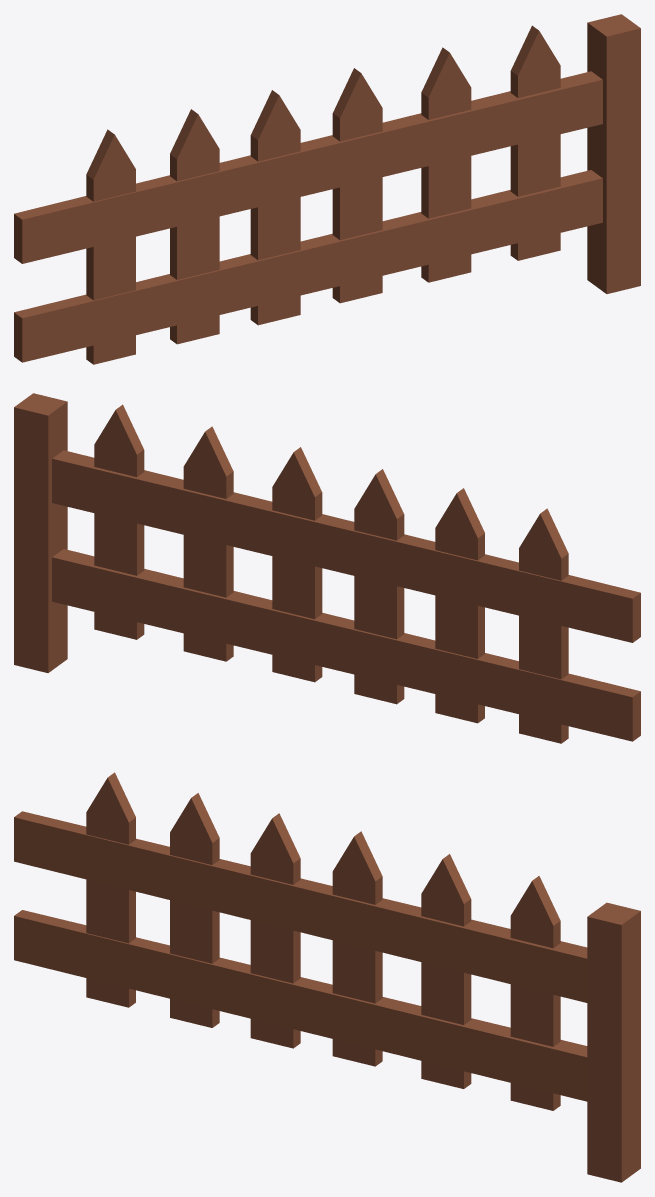
The model's file is fence.fancy.close.L.glb.
The picture shows the model from 3 angles, top to bottom: view 1: azimuth 30°, elevation 25°; view 2: azimuth 150°, elevation 25°; view 3: azimuth 330°, elevation 25°; orthographic projection.
Visible parts, largest first — view 1: fence.fancy.close.L; view 2: fence.fancy.close.L; view 3: fence.fancy.close.L.
Part boxes in pixels (x1,y1,x2,y2): fence.fancy.close.L: (14,14,640,364); fence.fancy.close.L: (14,393,640,743); fence.fancy.close.L: (14,772,640,1182).
Bounding box in the file's own units: 3.03 × 1.3 × 0.1655.
